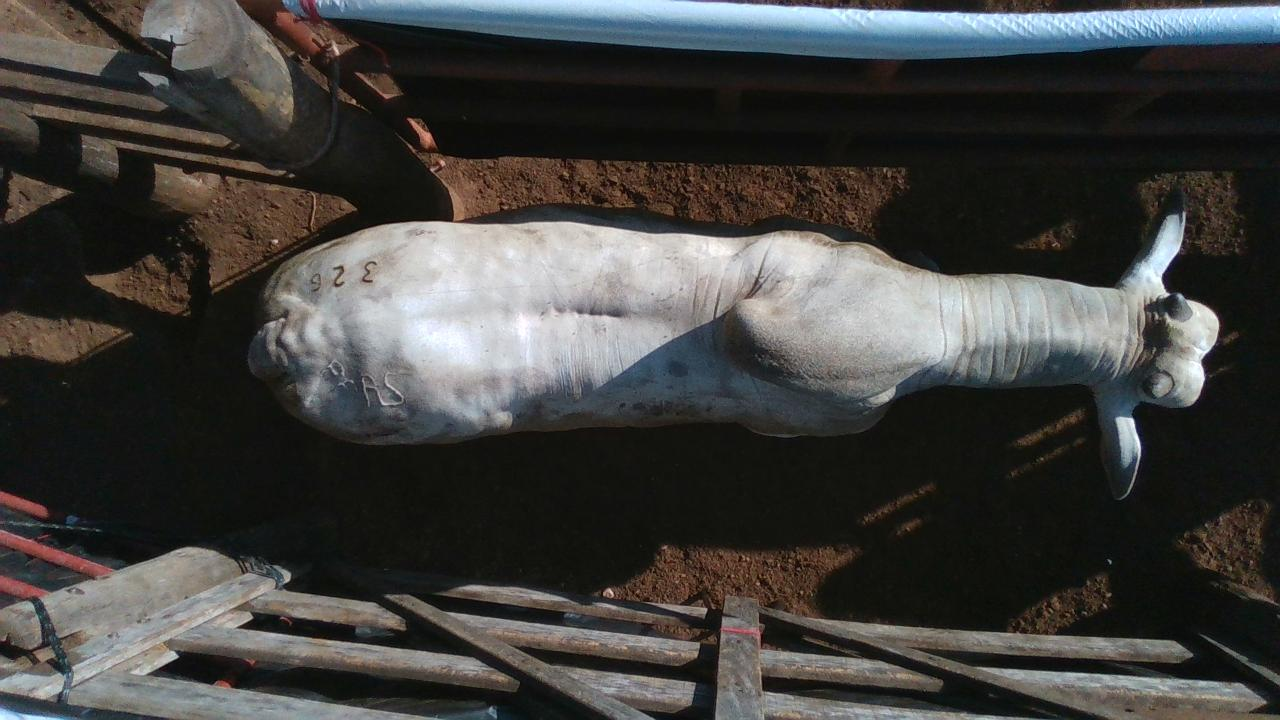cattle: (245, 200, 1221, 500)
